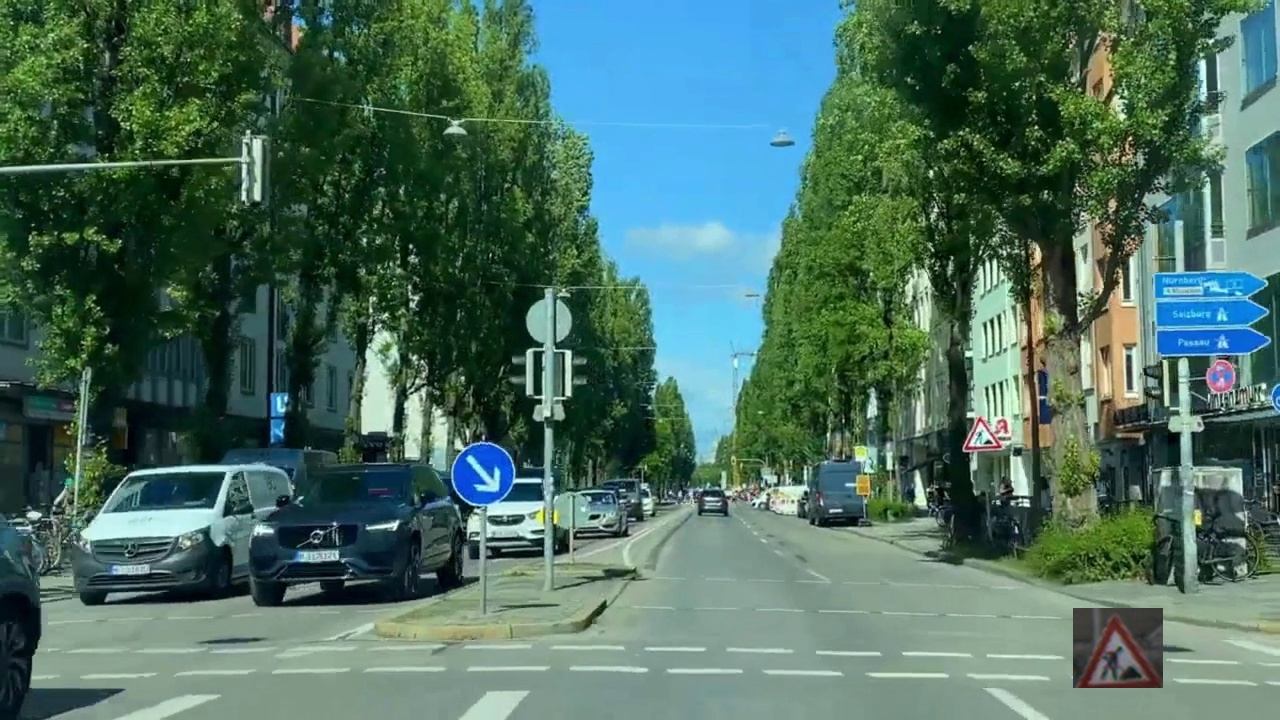Road work: (1073, 608, 1163, 688)
